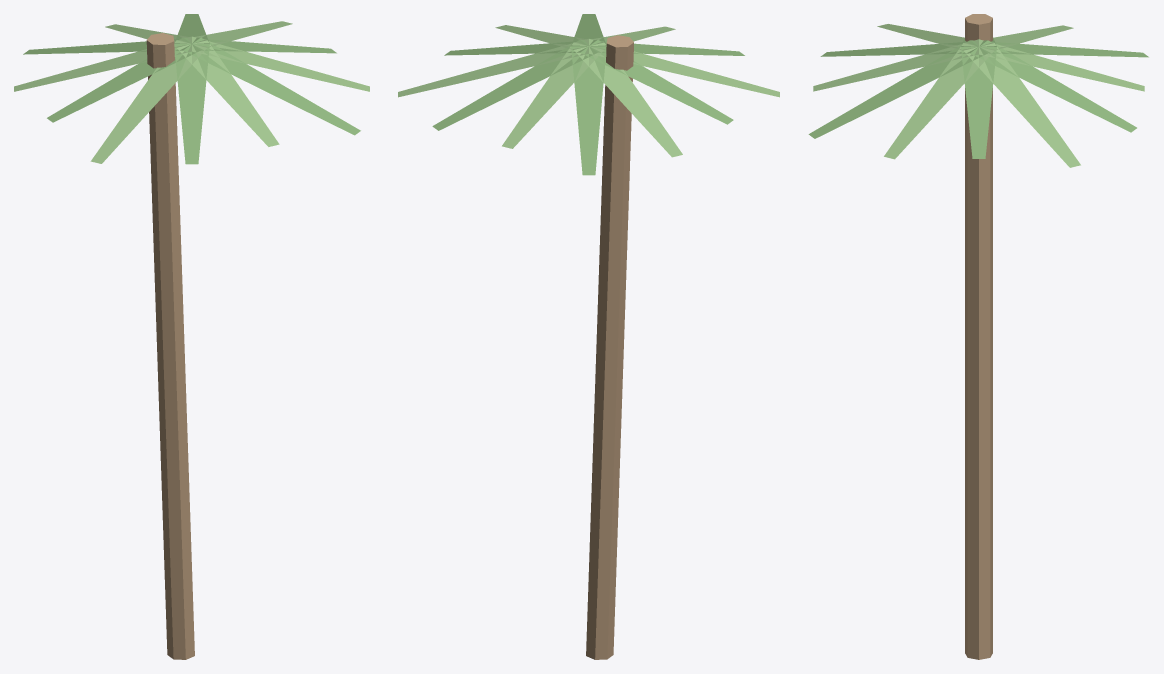
File: veg_tree_date_palm_01.glb
3 views of the same model, side by side, from view 1: azimuth 30°, elevation 25°; view 2: azimuth 150°, elevation 25°; view 3: azimuth 270°, elevation 25° (orthographic).
Visible parts, largest first — view 1: trunk, leaf_04, leaf_05, leaf_02, leaf_03, leaf_06, leaf_01, leaf_07, leaf_08, leaf_00, leaf_11, leaf_10; view 2: trunk, leaf_08, leaf_07, leaf_09, leaf_10, leaf_11, leaf_06, leaf_05, leaf_00, leaf_04, leaf_01, leaf_02; view 3: trunk, leaf_11, leaf_01, leaf_00, leaf_02, leaf_10, leaf_09, leaf_03, leaf_08, leaf_04, leaf_05, leaf_07.
Part boxes in pixels (x1,y1,x2,y2): trunk: [146, 33, 194, 659]; leaf_04: [174, 44, 209, 164]; leaf_05: [90, 40, 207, 163]; leaf_02: [183, 37, 360, 135]; leaf_03: [176, 40, 279, 146]; leaf_06: [47, 37, 200, 122]; leaf_01: [192, 36, 369, 91]; leaf_07: [14, 36, 191, 91]; leaf_08: [23, 37, 200, 54]; leaf_00: [183, 37, 336, 53]; leaf_11: [177, 21, 292, 47]; leaf_10: [174, 14, 209, 43]; trunk: [586, 35, 633, 659]; leaf_08: [571, 46, 606, 175]; leaf_07: [574, 42, 682, 157]; leaf_09: [502, 42, 603, 148]; leaf_10: [432, 40, 597, 130]; leaf_11: [398, 39, 588, 97]; leaf_06: [580, 40, 733, 124]; leaf_05: [589, 39, 779, 97]; leaf_00: [444, 39, 597, 55]; leaf_04: [580, 39, 744, 55]; leaf_01: [495, 25, 603, 49]; leaf_02: [571, 14, 606, 46]; trunk: [965, 14, 992, 659]; leaf_11: [963, 43, 1080, 167]; leaf_01: [884, 43, 994, 159]; leaf_00: [961, 47, 996, 158]; leaf_02: [808, 40, 987, 138]; leaf_10: [970, 40, 1136, 132]; leaf_09: [979, 39, 1144, 91]; leaf_03: [813, 39, 978, 91]; leaf_08: [970, 40, 1148, 57]; leaf_04: [820, 40, 987, 56]; leaf_05: [877, 24, 993, 50]; leaf_07: [964, 25, 1073, 50].
Bounding box in the file's own units: 5.19 × 10.51 × 5.19.
